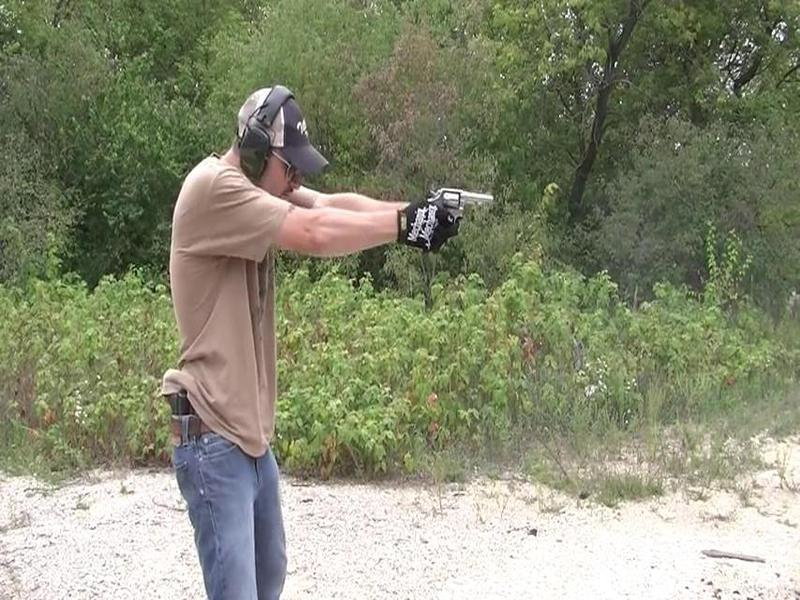Revolver: (417, 178, 503, 250)
